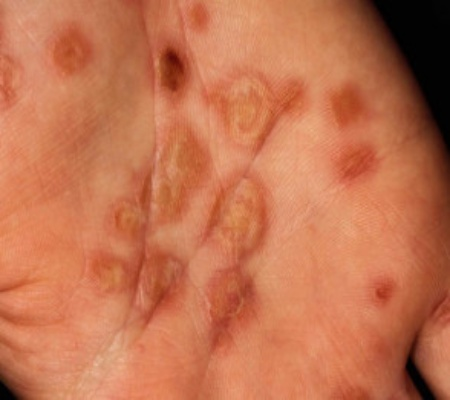SJS-TEN: (0, 0, 428, 400)
